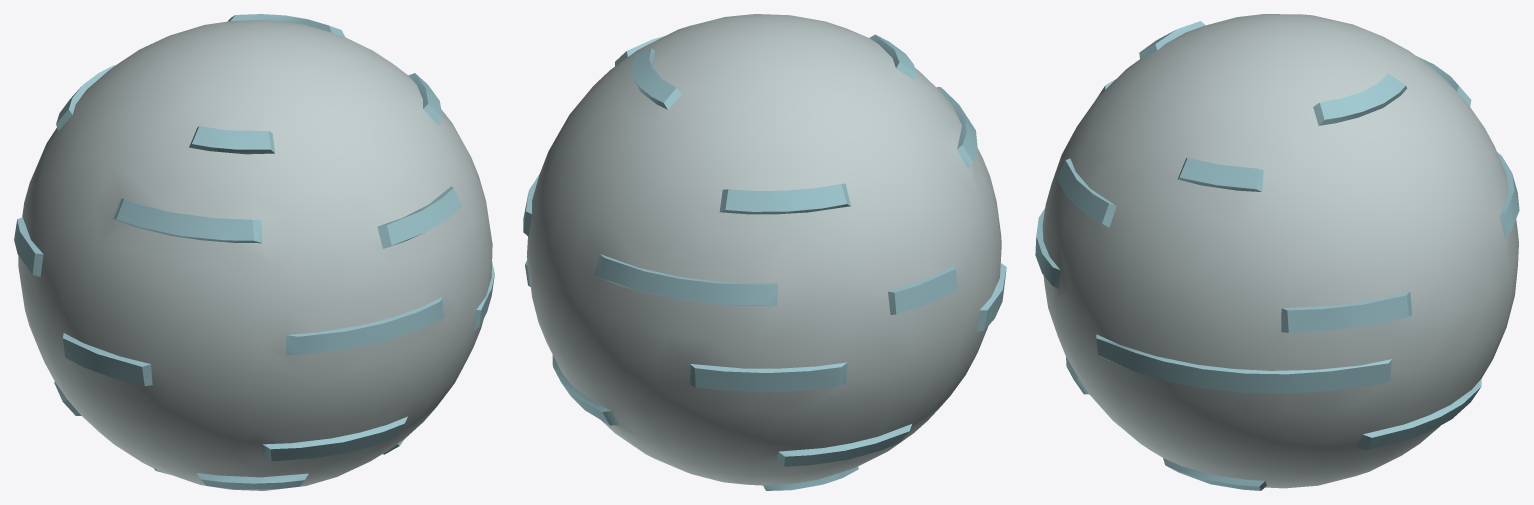
The model's file is Planet-pHZz4EMvVM.glb.
3 renders of one model, left to right at view 1: azimuth 30°, elevation 25°; view 2: azimuth 150°, elevation 25°; view 3: azimuth 270°, elevation 25°, orthographic.
Parts seen in each view (by area): view 1: Planet_9; view 2: Planet_9; view 3: Planet_9.
Part boxes in pixels (<box>): Planet_9: <box>14,14,494,490</box>; Planet_9: <box>523,14,1006,490</box>; Planet_9: <box>1035,14,1519,490</box>.
Bounding box in the file's own units: 3.82 × 3.75 × 3.81.
Materials: 1 (1 with a texture image).
